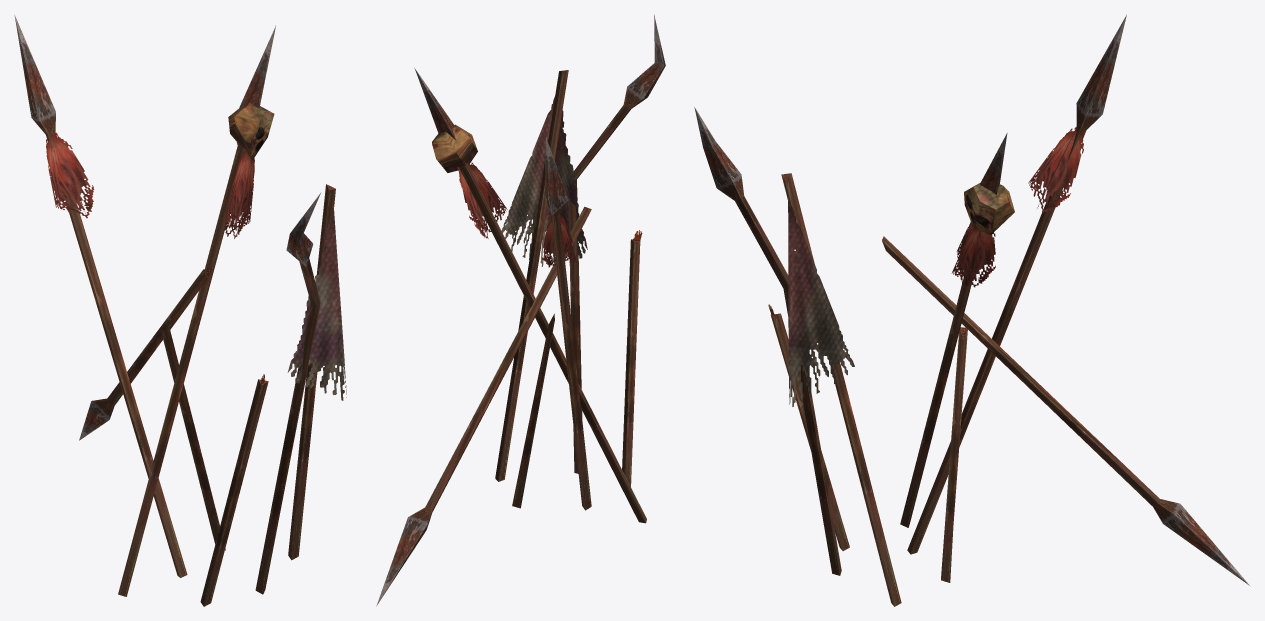
Rendered from wuqicanhai01.FBX.
3 views of the same model, side by side, from view 1: azimuth 30°, elevation 25°; view 2: azimuth 150°, elevation 25°; view 3: azimuth 270°, elevation 25° (orthographic). The views are drawn at different scales.
Parts seen in each view (by area): view 1: wuqicanhai01; view 2: wuqicanhai01; view 3: wuqicanhai01.
Boxes of the visible parts, x1=… form: wuqicanhai01: x1=14, y1=15, x2=346, y2=606; wuqicanhai01: x1=376, y1=14, x2=665, y2=606; wuqicanhai01: x1=694, y1=14, x2=1249, y2=606.
Bounding box in the file's own units: 189 × 441 × 435.
